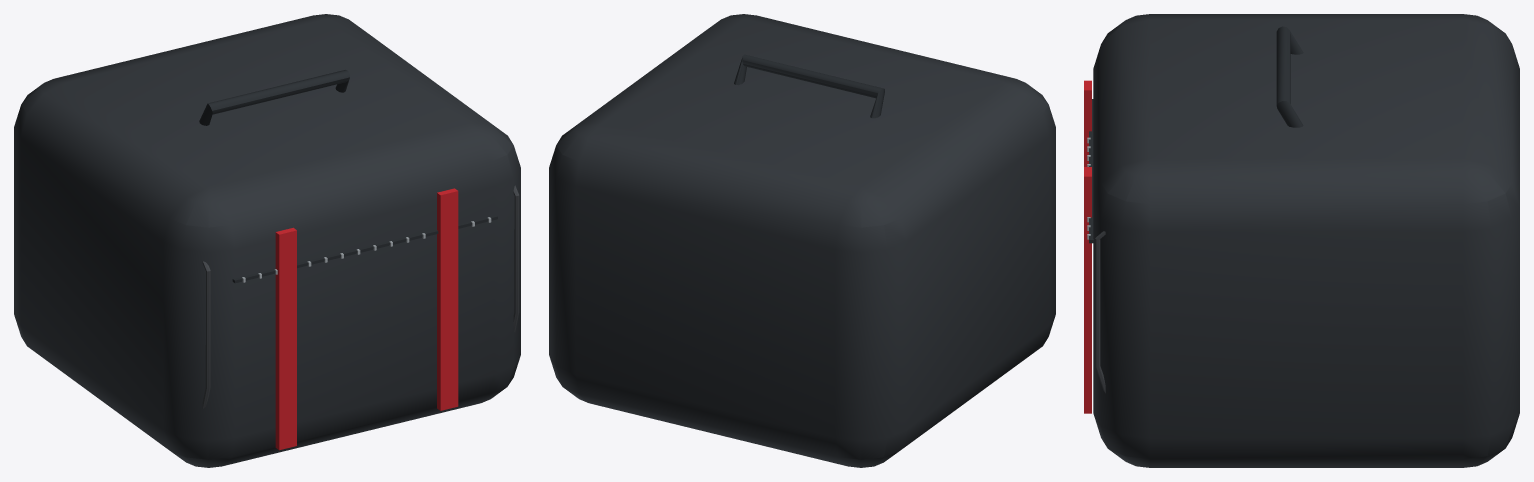
File: ob_black_bag_g1.glb
3 renders of one model, left to right at view 1: azimuth 30°, elevation 25°; view 2: azimuth 150°, elevation 25°; view 3: azimuth 270°, elevation 25°, orthographic. The views are drawn at different scales.
Parts seen in each view (by area): view 1: ob_black_bag_g1; view 2: ob_black_bag_g1; view 3: ob_black_bag_g1.
Boxes of the visible parts, box(x1,y1,x2,y2) form: ob_black_bag_g1: box(14, 14, 520, 467); ob_black_bag_g1: box(549, 14, 1055, 467); ob_black_bag_g1: box(1084, 14, 1519, 467).
Size of the model in its own units: 0.49 by 0.4 by 0.48.
